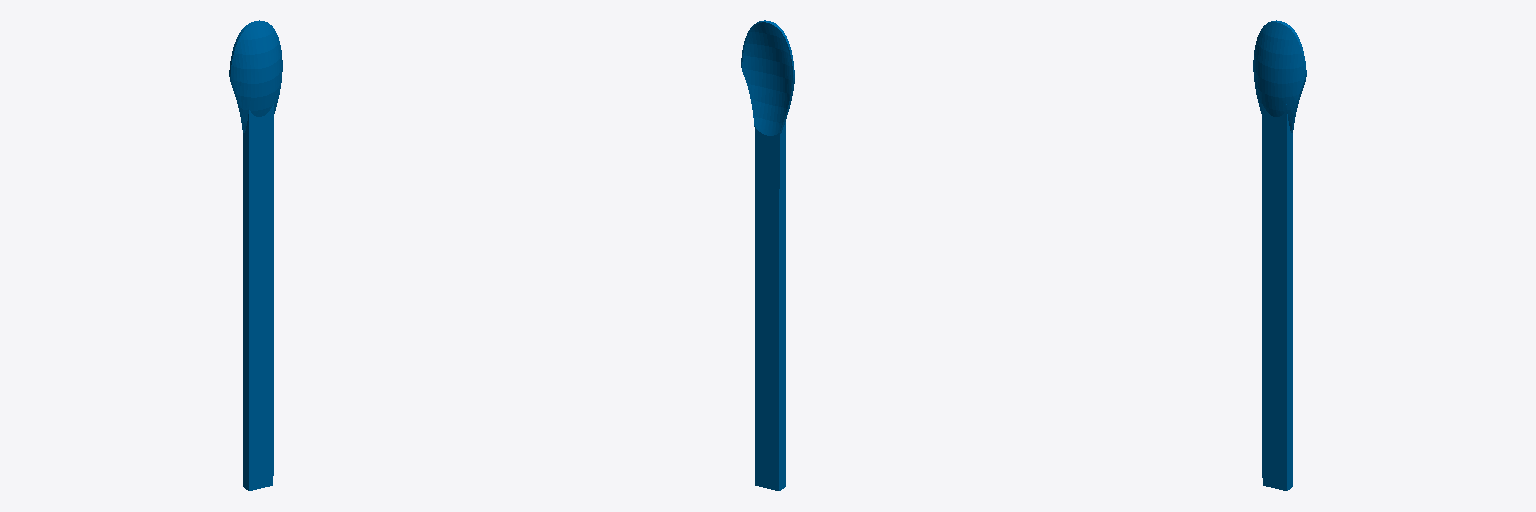
The robot description file, URDF, robot "bucket":
<?xml version="1.0"?>

<robot name="bucket">

  <link name="z_link">
    <visual>
      <!-- <geometry>
        <box size="0.03 10 0.03"/>
      </geometry>
      <material name="slider_mat">
        <color rgba="0.9 0.6 0.2 1"/>
      </material> -->
    </visual>
  </link>

  <joint name="bucket_slider_y" type="prismatic">
    <axis xyz="0 0 1"/>
    <origin xyz="0 0 0"/>
    <parent link="z_link"/>
    <child link="y_link"/>
    <limit effort="1000.0" velocity="100"/>
  </joint>

  <link name="y_link">
    <visual>
      <!-- <geometry>
        <box size="0.03 0.03 10.0"/>
      </geometry>
      <material name="slider_mat">
        <color rgba="0.9 0.6 0.2 1"/>
      </material> -->
    </visual>
  </link>


  <joint name="bucket_slider_z" type="prismatic">
    <axis xyz="0 1 0"/>
    <origin xyz="0 0 0"/>
    <parent link="y_link"/>
    <child link="x_link"/>
    <limit effort="1000.0" velocity="100"/>
  </joint>

  <link name="x_link">
    <visual>
      <!-- <geometry>
        <box size="10 0.03 0.03"/>
      </geometry>
      <material name="slider_mat">
        <color rgba="0.9 0.6 0.2 1"/>
      </material> -->
    </visual>
  </link>

  <joint name="bucket_slider_x" type="prismatic">
    <axis xyz="1 0 0"/>
    <origin xyz="0 0 0"/>
    <parent link="x_link"/>
    <child link="ee_link"/>
    <limit effort="1000.0" velocity="100"/>
  </joint>

  <link name="ee_link">
    <visual>
      <geometry>
        <ball size="0.1 0.1 0.1"/>
      </geometry>
      <material name="slider_mat">
        <color rgba="0.9 0.6 0.2 1"/>
      </material>
    </visual>
  </link>

  <joint name="bucket_joint_r" type="continuous">
    <axis xyz="1 0 0"/>
    <origin xyz="0 0 0"/>
    <parent link="ee_link"/>
    <child link="bucket_link"/>
    <limit effort="1000.0" velocity="100"/>
  </joint>
  
  <link name="bucket_link">
    <visual>
      <geometry>
        <mesh filename="spoon.dae"/>
      </geometry>
      <origin rpy="-1.57 0 0" xyz="0 0 0"/>
    </visual>
    <collision>
      <geometry>
        <mesh filename="spoon.stl"/>
      </geometry>
      <origin rpy="-1.57 0 0" xyz="0 0 0"/>
    </collision>
  </link>


</robot>

--- Render facts (derived) ---
The picture shows the robot from 3 angles, left to right: view 1: azimuth 30°, elevation 25°; view 2: azimuth 150°, elevation 25°; view 3: azimuth 330°, elevation 25°; orthographic projection.
Model bucket with 5 links and 4 joints (1 continuous, 3 prismatic), rooted at z_link, posed all joints at 0.
Visible links, largest first — view 1: bucket_link; view 2: bucket_link; view 3: bucket_link.
Link boxes in pixels (<box>): bucket_link: <box>229,20,282,490</box>; bucket_link: <box>741,20,794,490</box>; bucket_link: <box>1253,20,1306,490</box>.
Size in the robot's own frame: 3.87 by 1.13 by 33 metres.
1 mesh visuals loaded from 1 distinct referenced files (1 Collada DAE).